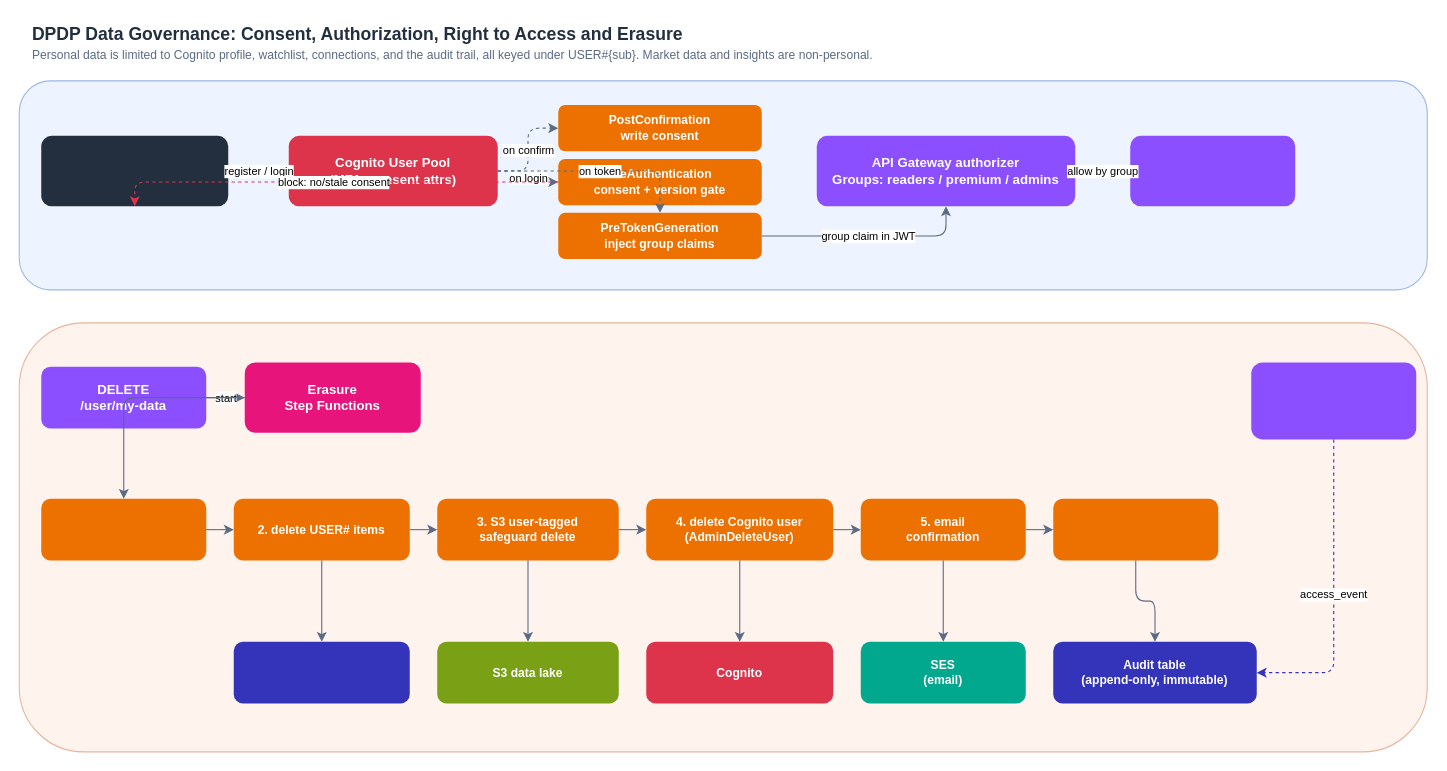
The diagram is 1447 pixels wide and 771 high, and some of its shapes have lost their labels. The shapes that lost their labels are listed below. From the top down, each one's box as (x1, y1, x2, y2) in pixels, then its label:
(41, 135, 228, 206): User / Next.js UI (consent screen)
(18, 80, 1427, 290): Consent and authentication
(1130, 135, 1295, 206): Purpose-limited data endpoints
(1251, 362, 1416, 439): GET /user/my-data Account Lambda (right to access)
(41, 498, 206, 560): 1. mark deletion_pending
(18, 322, 1427, 752): Right to erasure and right to access
(1053, 498, 1218, 560): 6. write erasure audit
(233, 641, 409, 703): DynamoDB (USER# items)
